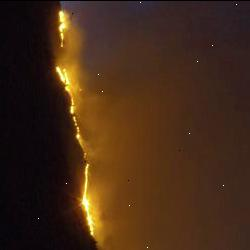fire: (68, 126, 102, 246), (48, 9, 78, 120)
